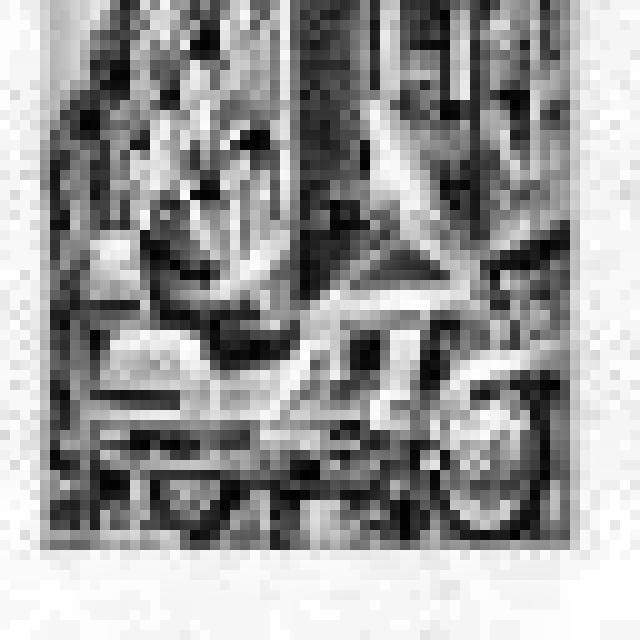mopeds: (72, 131, 555, 544)
